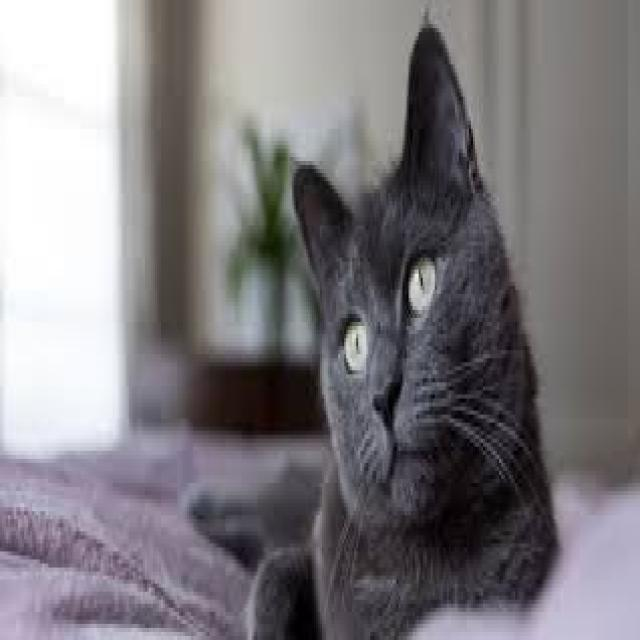Cat: (249, 16, 562, 640)
